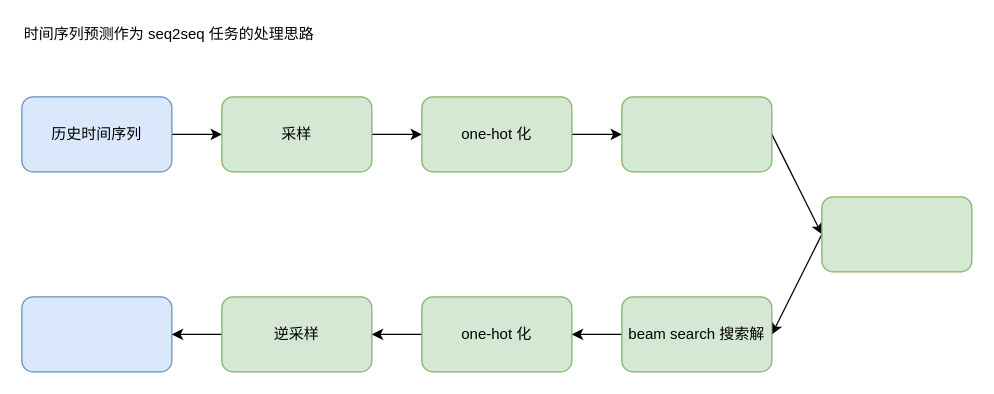
Some shapes in this 994 by 394 pixel diagram are drawn without their labels. The centre of each missing label's shape, as x and y in pixels:
序列标注: (x=696, y=134)
概率化模型训练 callback: (x=896, y=234)
预测时间序列: (x=96, y=334)
